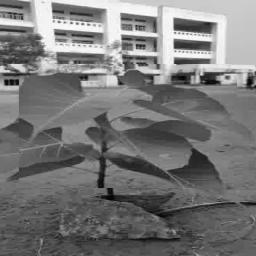LEAVS: (0, 64, 255, 196), (19, 76, 238, 189), (32, 75, 242, 181), (108, 110, 124, 133)
